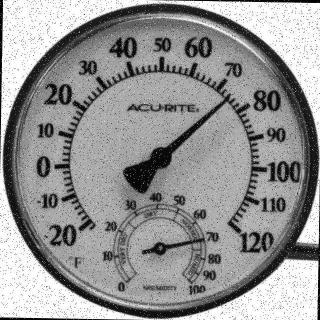gauge: (0, 0, 320, 320), (216, 214, 258, 247), (70, 212, 100, 242), (148, 144, 173, 172), (152, 241, 168, 256), (218, 92, 235, 106), (196, 234, 208, 245)
